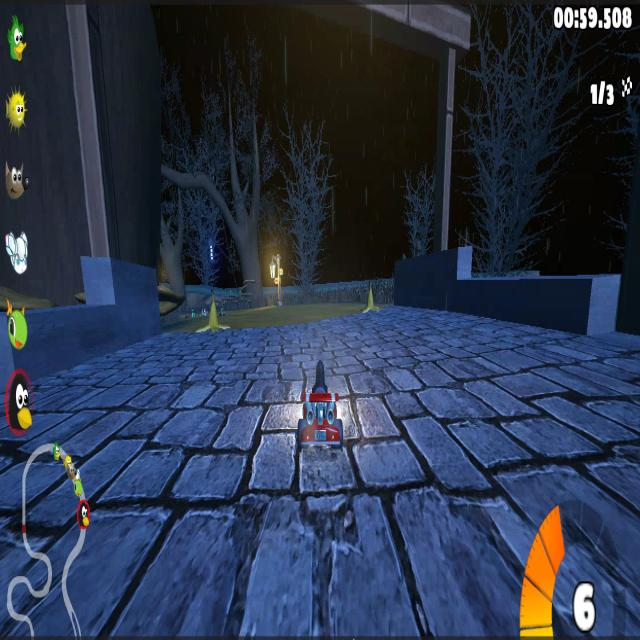obstacle: (198, 305, 232, 338), (364, 284, 382, 320)
player_kart: (295, 360, 344, 455)
track: (346, 360, 640, 640), (6, 473, 347, 640), (117, 350, 296, 501), (8, 377, 121, 469), (360, 322, 580, 360), (301, 307, 357, 351), (238, 307, 295, 346), (159, 300, 197, 323), (150, 331, 193, 345)
